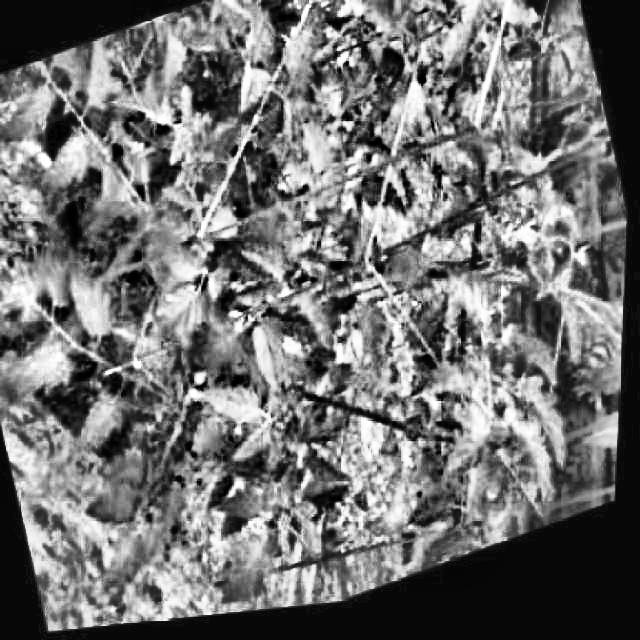plants: (0, 0, 501, 592), (212, 108, 634, 620)
